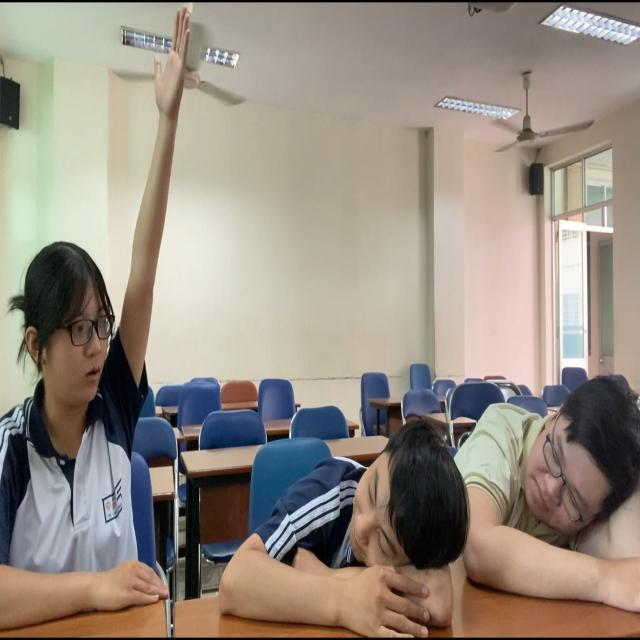raise_hand: (1, 3, 206, 640)
sleep: (254, 400, 465, 640), (456, 371, 640, 597)
